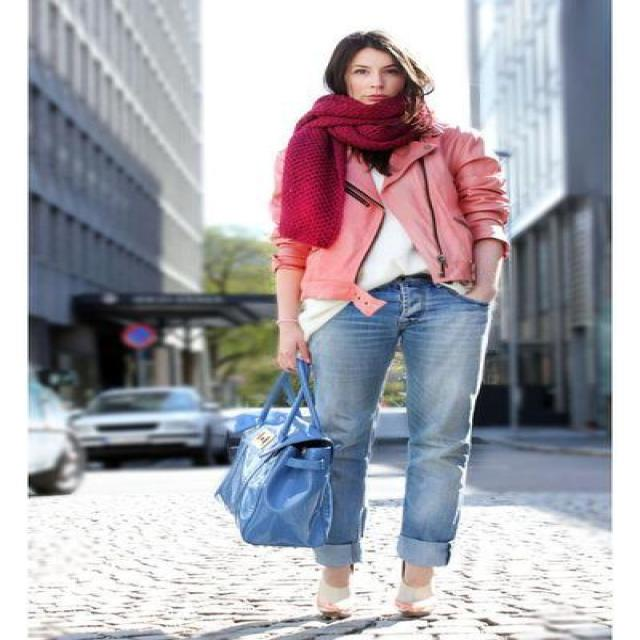bag: (211, 404, 331, 547)
jacket: (269, 115, 510, 315)
pants: (288, 272, 514, 571)
shirt: (299, 219, 443, 335)
shoe: (297, 580, 438, 626)
